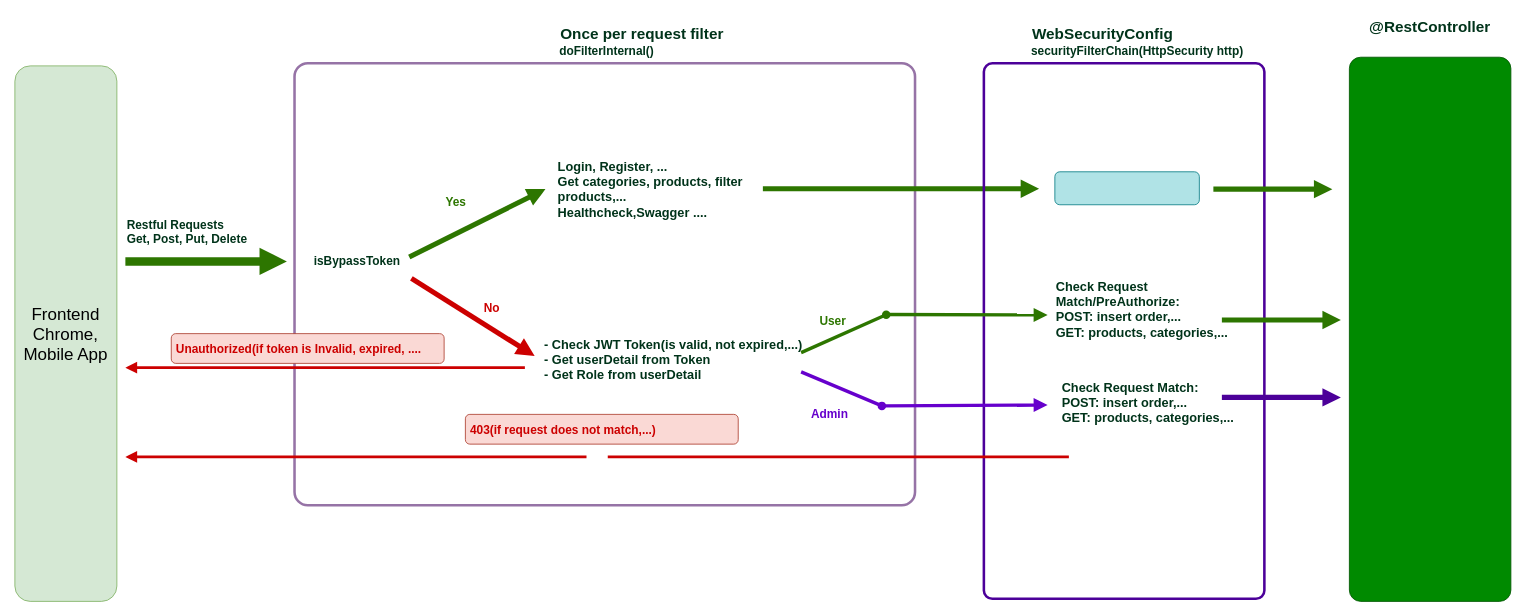
The diagram is 1526 pixels wide and 616 high, and some of its shapes have lost their labels. The shapes that lost their labels are listed below. From the top down, each one's centre as x and y in pixels, then its label:
At point 1126,188: "permitAll()".
At point 1430,328: "Controller".
